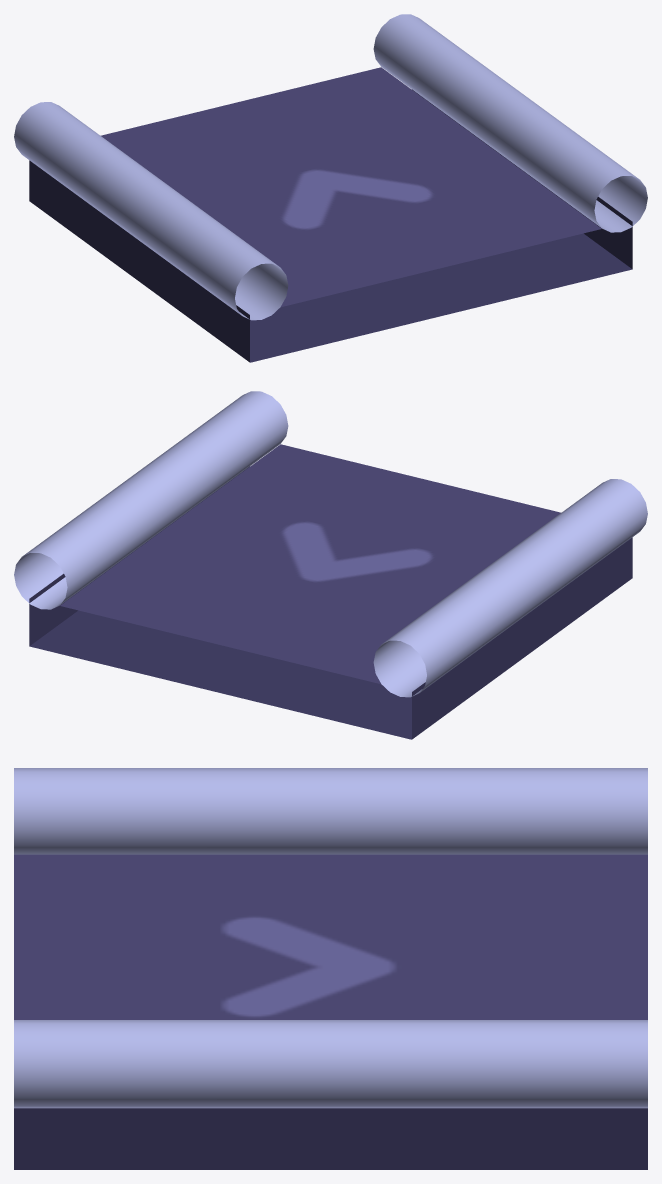
File: Conveyor_Straight.glb
The picture shows the model from 3 angles, top to bottom: view 1: azimuth 30°, elevation 25°; view 2: azimuth 150°, elevation 25°; view 3: azimuth 270°, elevation 25°; orthographic projection. The views are drawn at different scales.
Visible parts, largest first — view 1: Conveyor_Straight_Belt, Conveyor_Straight_Base, Conveyor_Straight_RailL, Conveyor_Straight_RailR; view 2: Conveyor_Straight_Belt, Conveyor_Straight_Base, Conveyor_Straight_RailL, Conveyor_Straight_RailR; view 3: Conveyor_Straight_Belt, Conveyor_Straight_RailR, Conveyor_Straight_RailL, Conveyor_Straight_Base.
Part boxes in pixels (x1=…): Conveyor_Straight_Belt: x1=101, y1=67, x2=601, y2=306; Conveyor_Straight_Base: x1=29, y1=89, x2=632, y2=362; Conveyor_Straight_RailL: x1=14, y1=102, x2=288, y2=320; Conveyor_Straight_RailR: x1=373, y1=14, x2=647, y2=232; Conveyor_Straight_Belt: x1=60, y1=444, x2=560, y2=683; Conveyor_Straight_Base: x1=29, y1=466, x2=632, y2=739; Conveyor_Straight_RailL: x1=373, y1=479, x2=647, y2=697; Conveyor_Straight_RailR: x1=14, y1=391, x2=288, y2=609; Conveyor_Straight_Belt: x1=14, y1=854, x2=647, y2=1019; Conveyor_Straight_RailR: x1=14, y1=1020, x2=647, y2=1108; Conveyor_Straight_RailL: x1=14, y1=768, x2=647, y2=854; Conveyor_Straight_Base: x1=14, y1=1108, x2=647, y2=1169.
Bounding box in the file's own units: 1.08 × 0.24 × 1.
3 materials, 1 textured.
